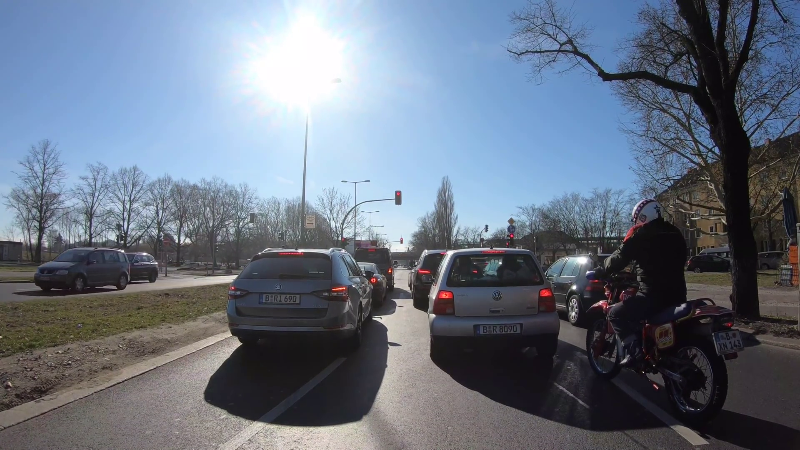Plate: (474, 321, 524, 336), (256, 292, 302, 305)
